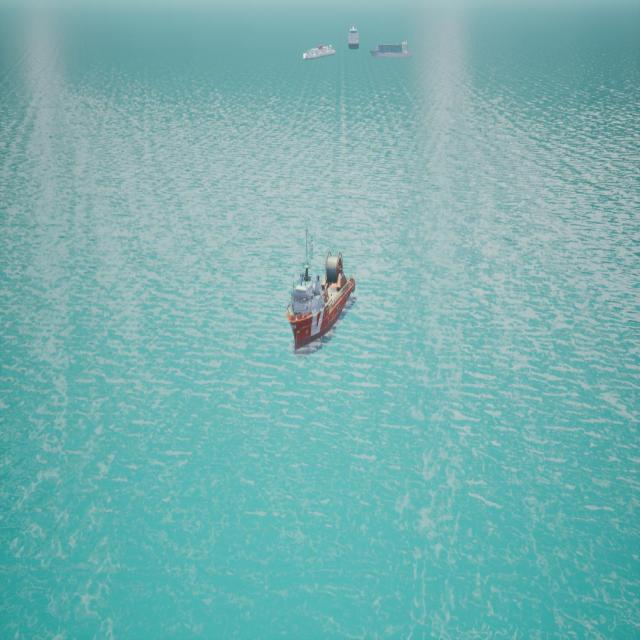tug boat: (288, 256, 355, 355)
